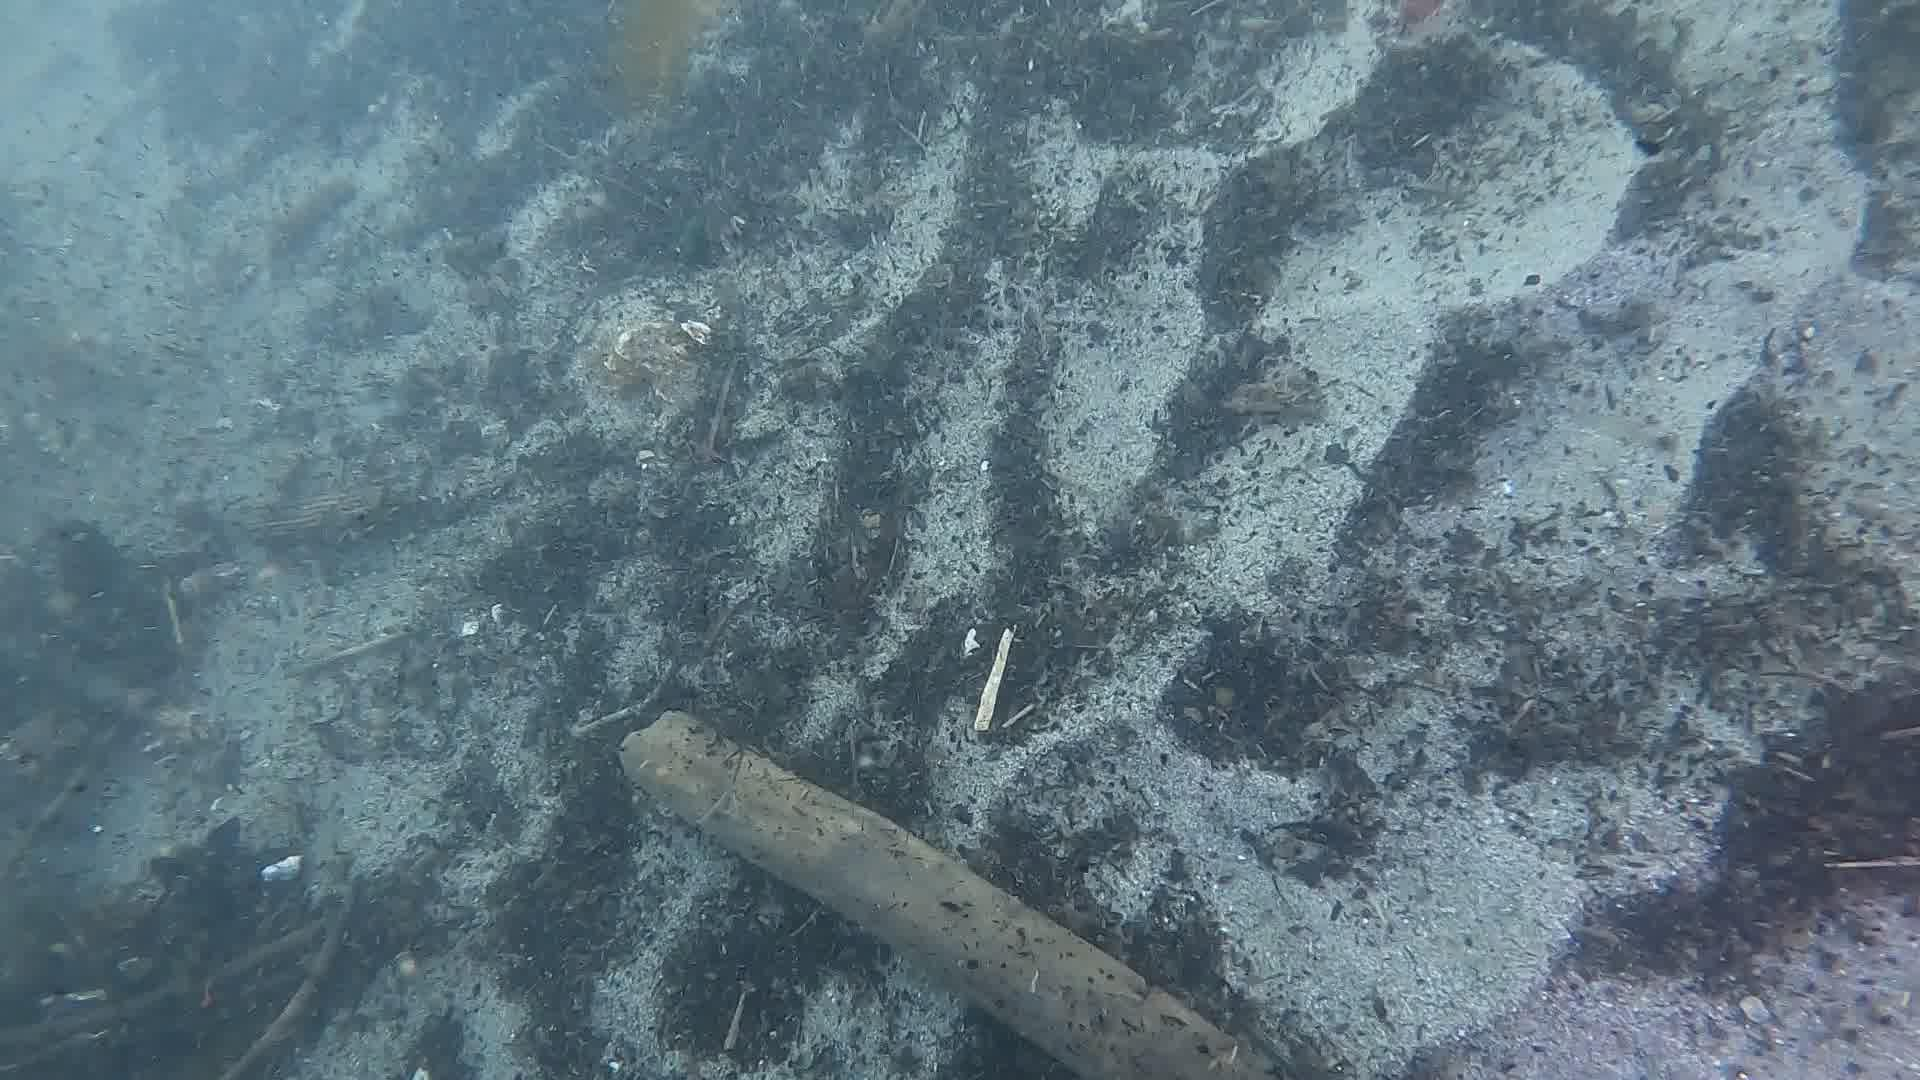wood: (615, 704, 1275, 1080)
